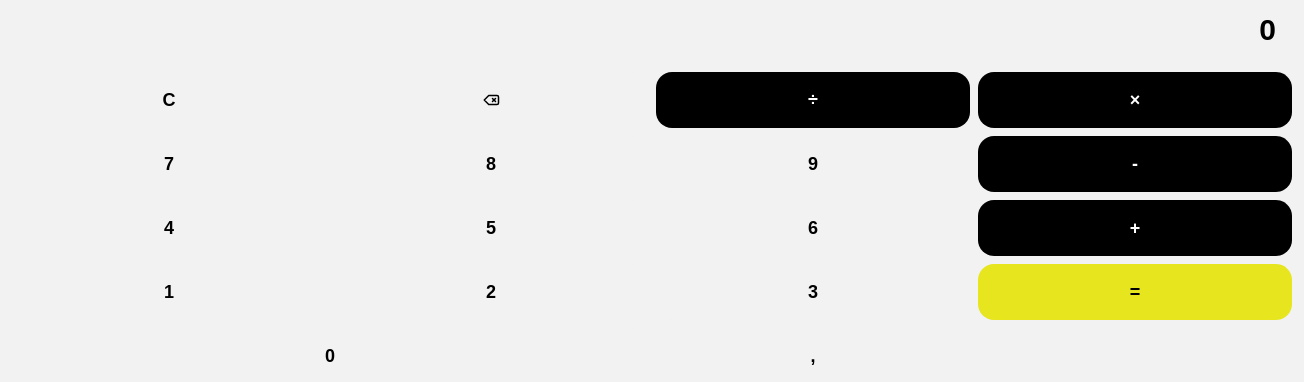
Test case: Calculator › chains operations left to right, no operator precedence (2 + 3 × 4 = 20)
Step 1. Click the button "2" → (491,292), box [334, 264, 648, 320]
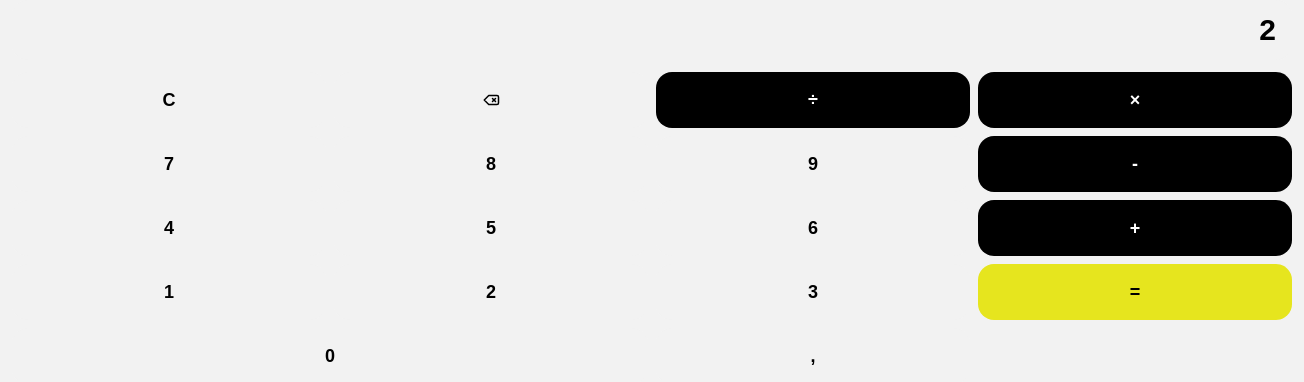
Step 2. Click the button named "Operador +" → (1135,228), box [978, 200, 1292, 256]
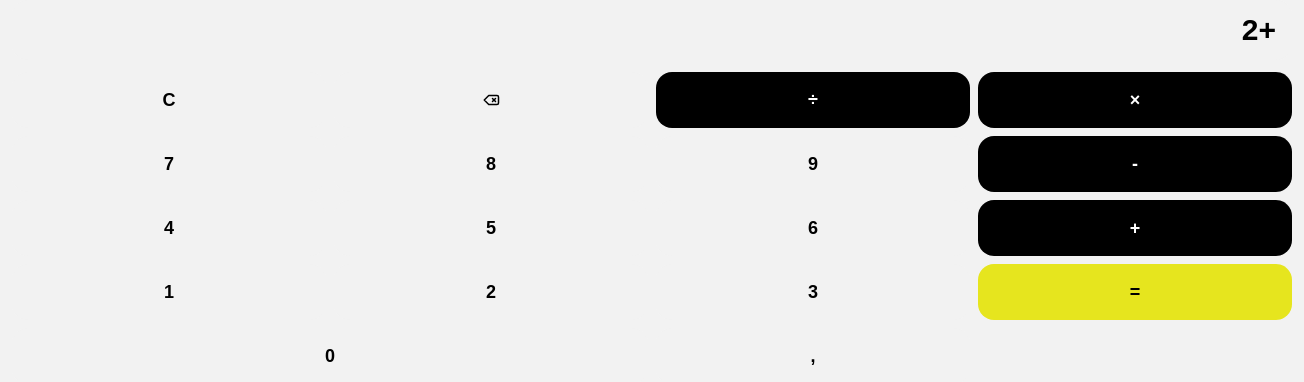
Step 3. Click the button "3" → (813,292), box [656, 264, 970, 320]
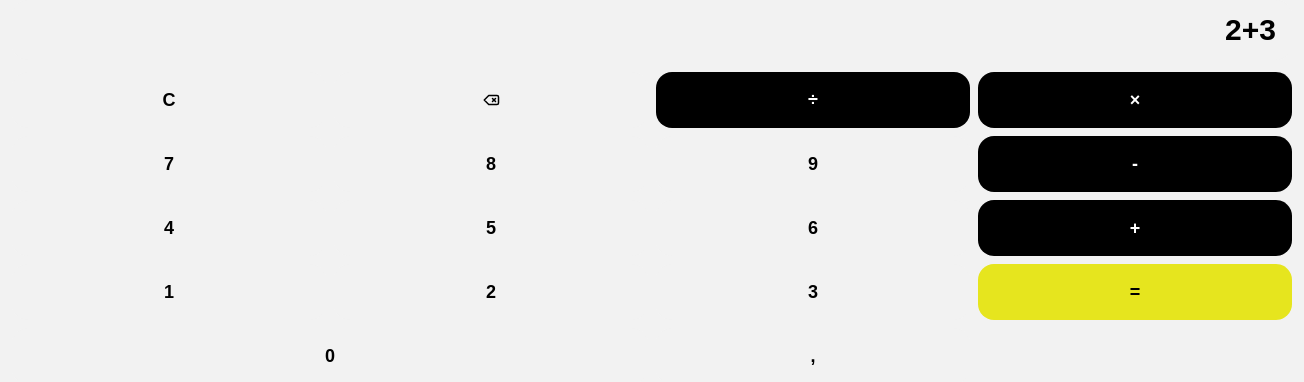
Step 4. Click the button named "Operador ×" → (1135,100), box [978, 72, 1292, 128]
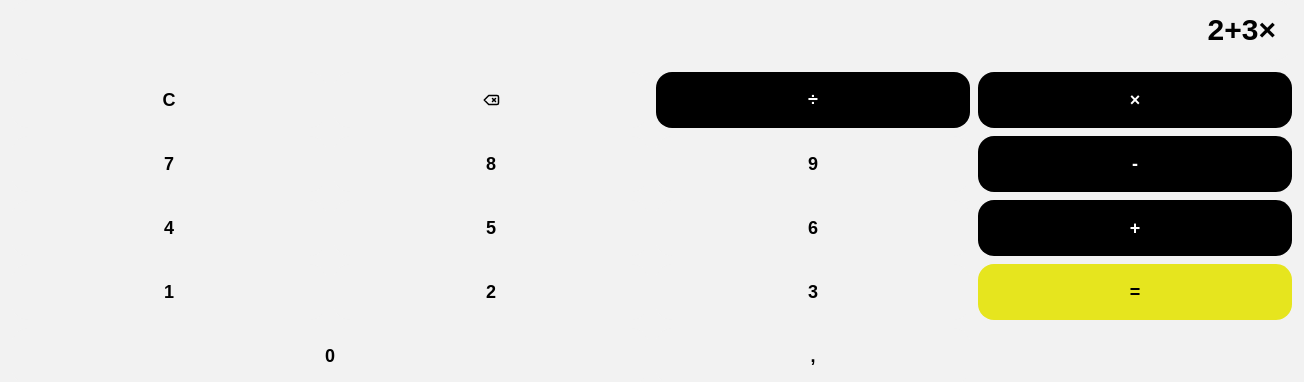
Step 5. Click the button "4" → (169,228), box [12, 200, 326, 256]
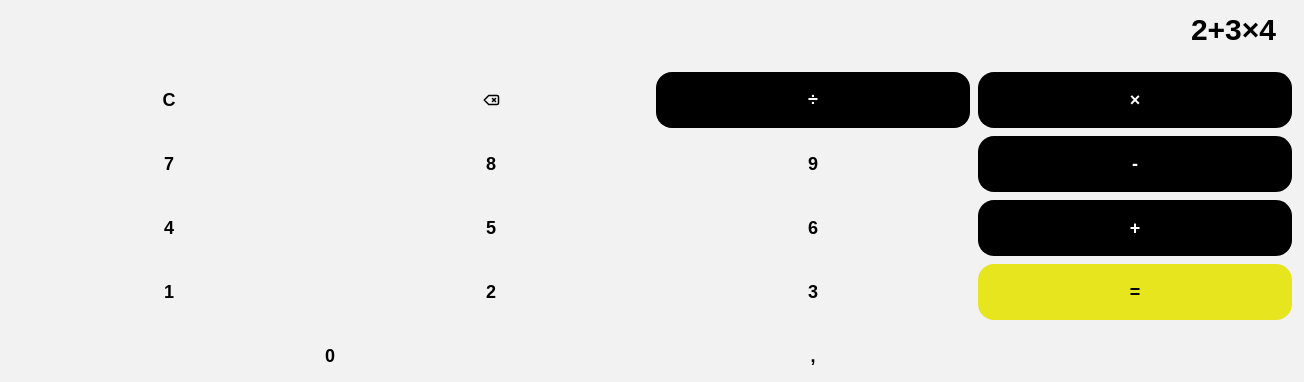
Now the text "2+3×4" is shown, box [12, 0, 1292, 60]
Step 6. Click the button named "Igual" → (1135,292), box [978, 264, 1292, 320]
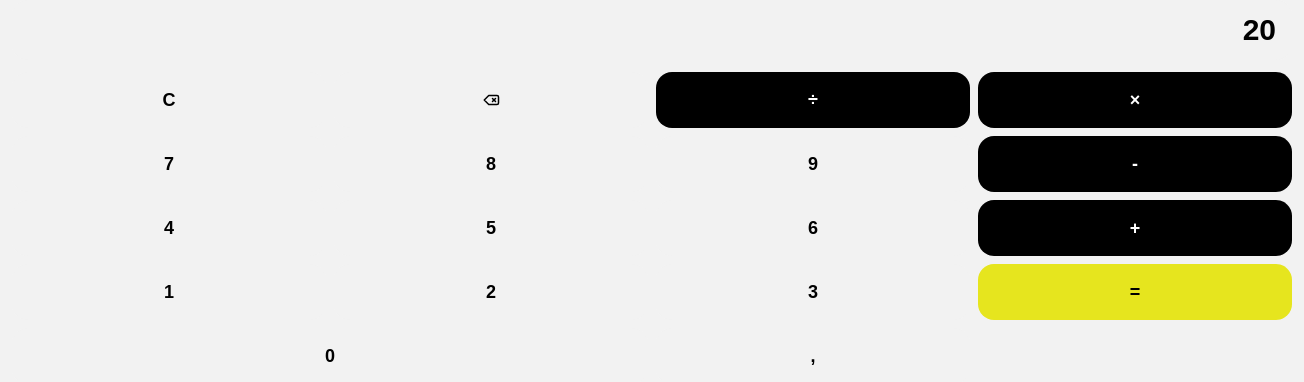
Now the text "20" is shown, box [12, 0, 1292, 60]
